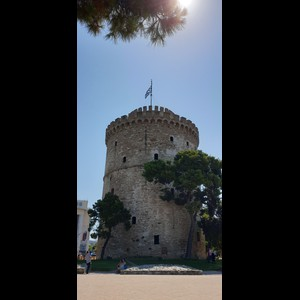White Tower: (91, 77, 211, 264)
